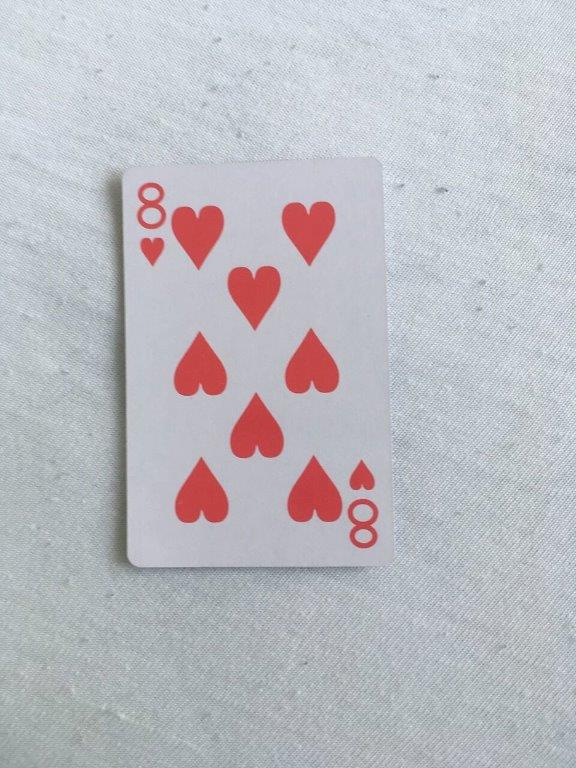8H: (118, 155, 399, 572)
